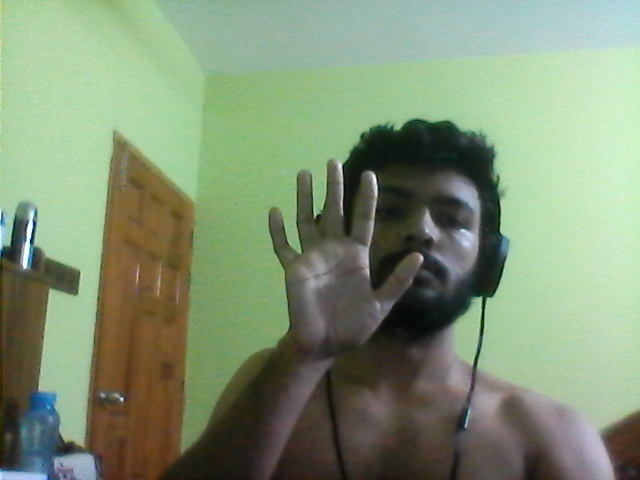Hello: (260, 155, 427, 367)
